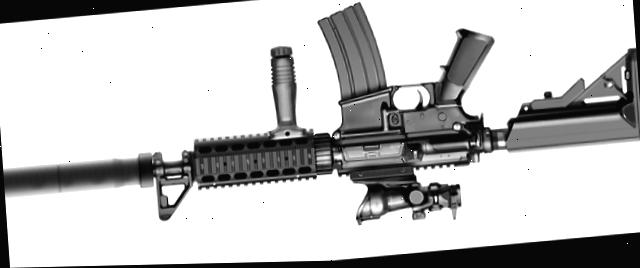rifle: (0, 0, 640, 255)
